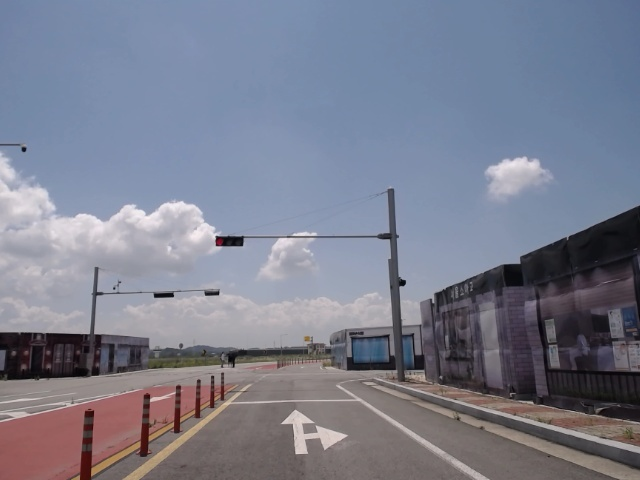red_3: (215, 236, 244, 246)
